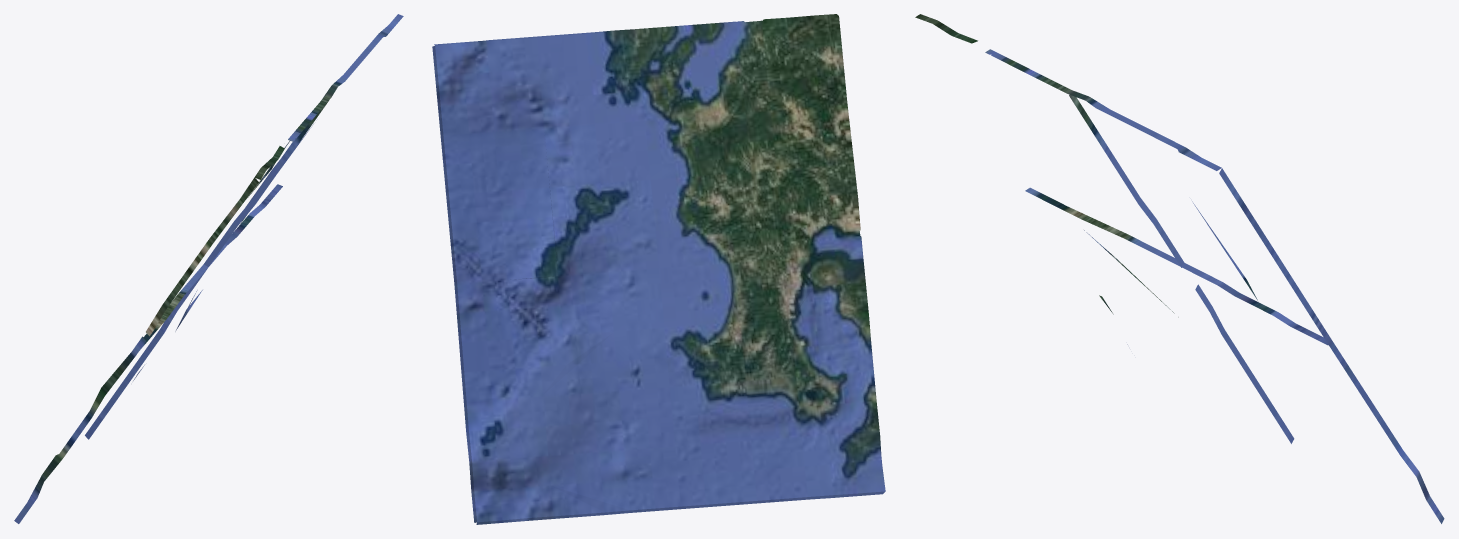
The picture shows the model from 3 angles, left to right: view 1: azimuth 30°, elevation 25°; view 2: azimuth 150°, elevation 25°; view 3: azimuth 270°, elevation 25°; orthographic projection. The views are drawn at different scales.
Bounding box in the file's own units: 157335 × 135974 × 149874.
Materials: 1 (1 with a texture image).
